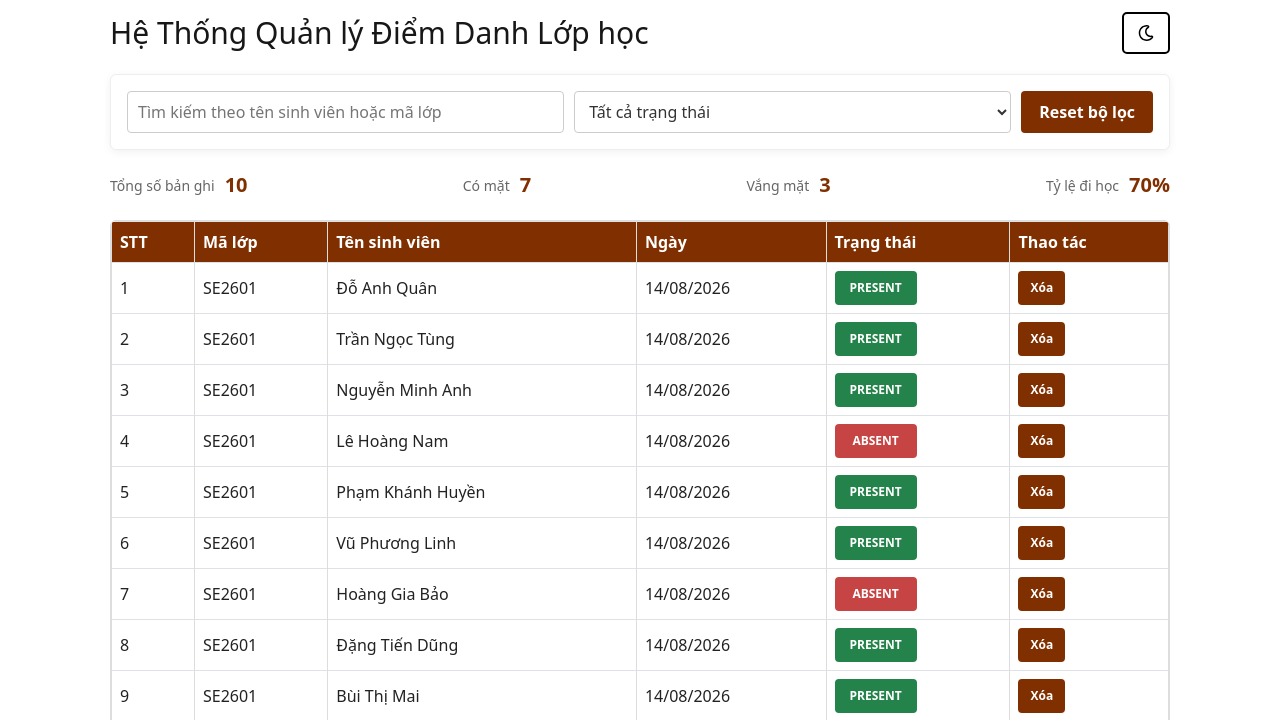
searches with a ref, filters status, and resets filters
Type "do anh quan" into the field named "Tìm kiếm sinh viên" at [346, 112], box left=127, top=91, right=564, bottom=133
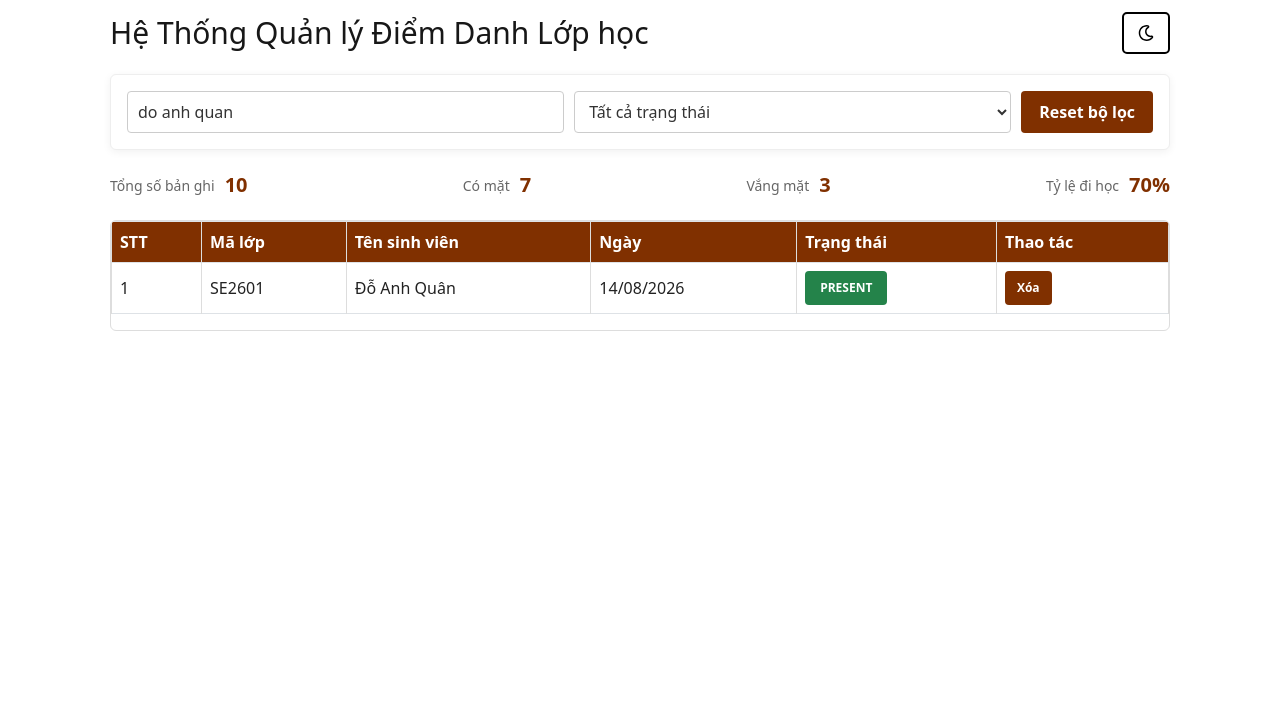
Check: the text "Đỗ Anh Quân" is shown, box left=346, top=262, right=591, bottom=314
Check: the text "Trần Ngọc Tùng" is gone
Select "Vắng mặt (ABSENT)" in the dropdown named "Lọc theo trạng thái" at [793, 112], box left=574, top=91, right=1011, bottom=133
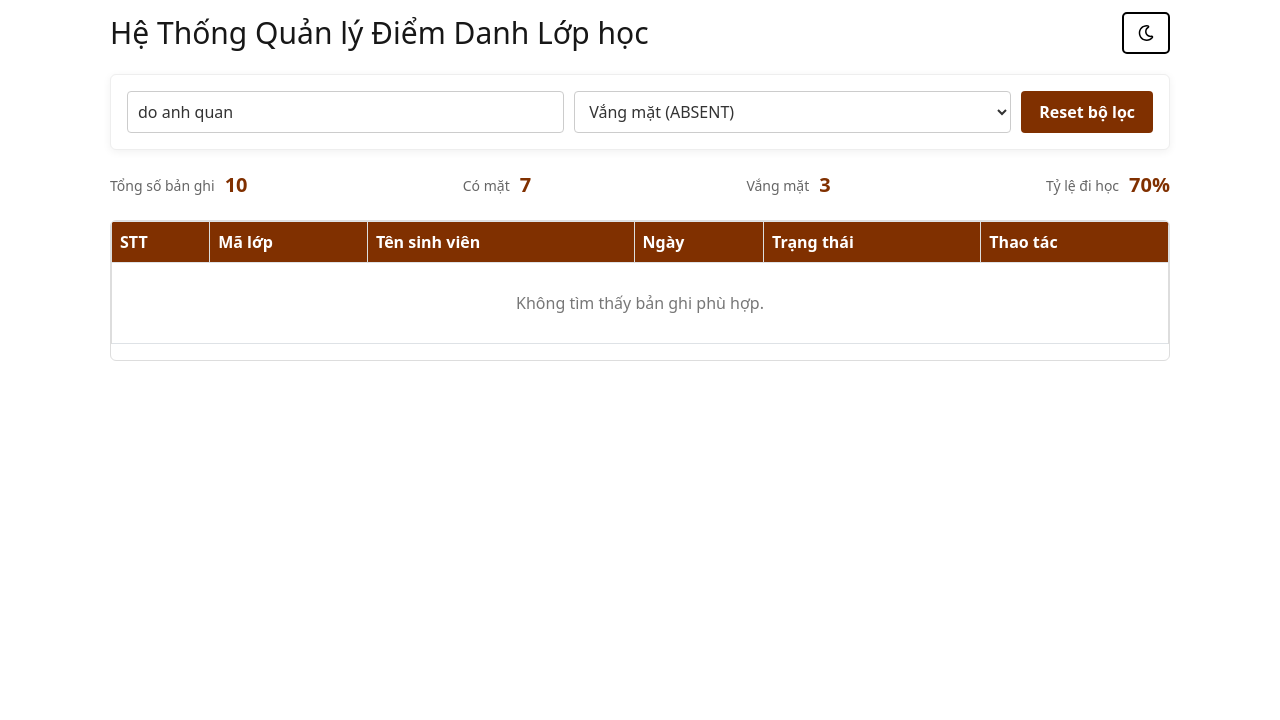
Check: the text "Không tìm thấy bản ghi phù hợp." is shown, box left=112, top=262, right=1168, bottom=344
Click the button "Reset bộ lọc" at [1087, 112], box left=1021, top=91, right=1153, bottom=133
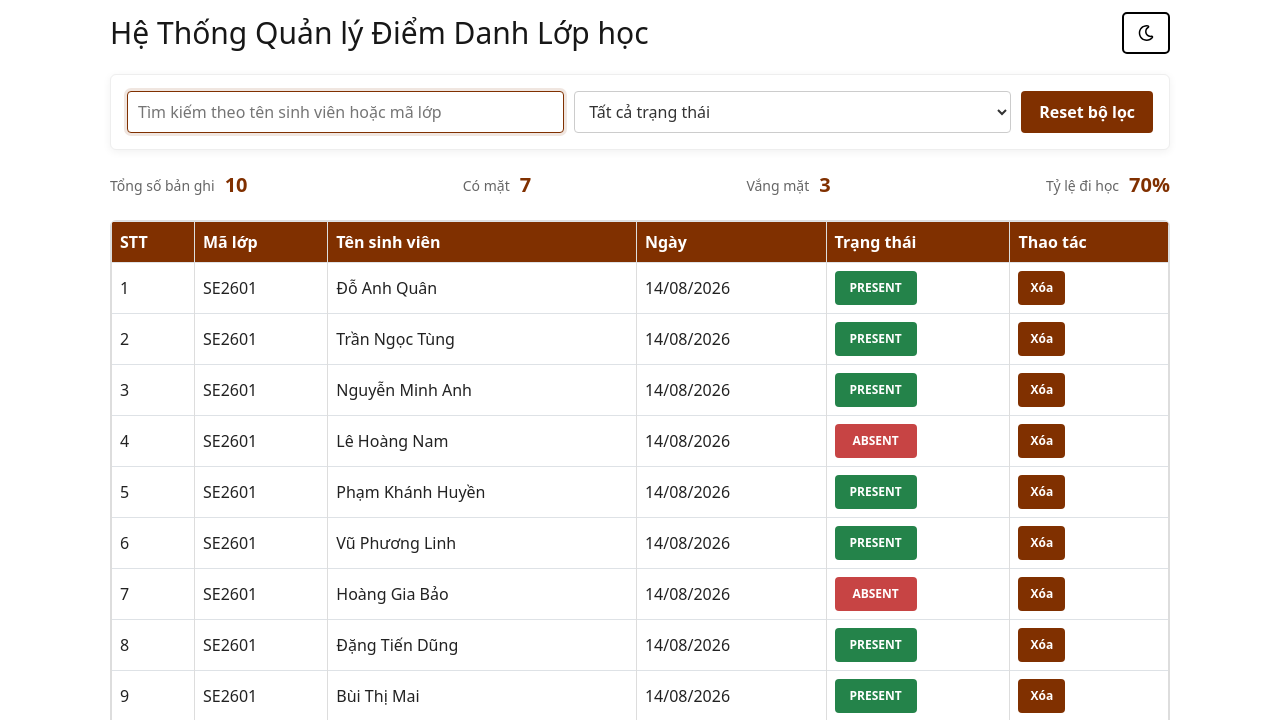
Check: the field named "Tìm kiếm sinh viên" is empty, box left=127, top=91, right=564, bottom=133
Check: the text "Trần Ngọc Tùng" is shown, box left=328, top=314, right=636, bottom=364
